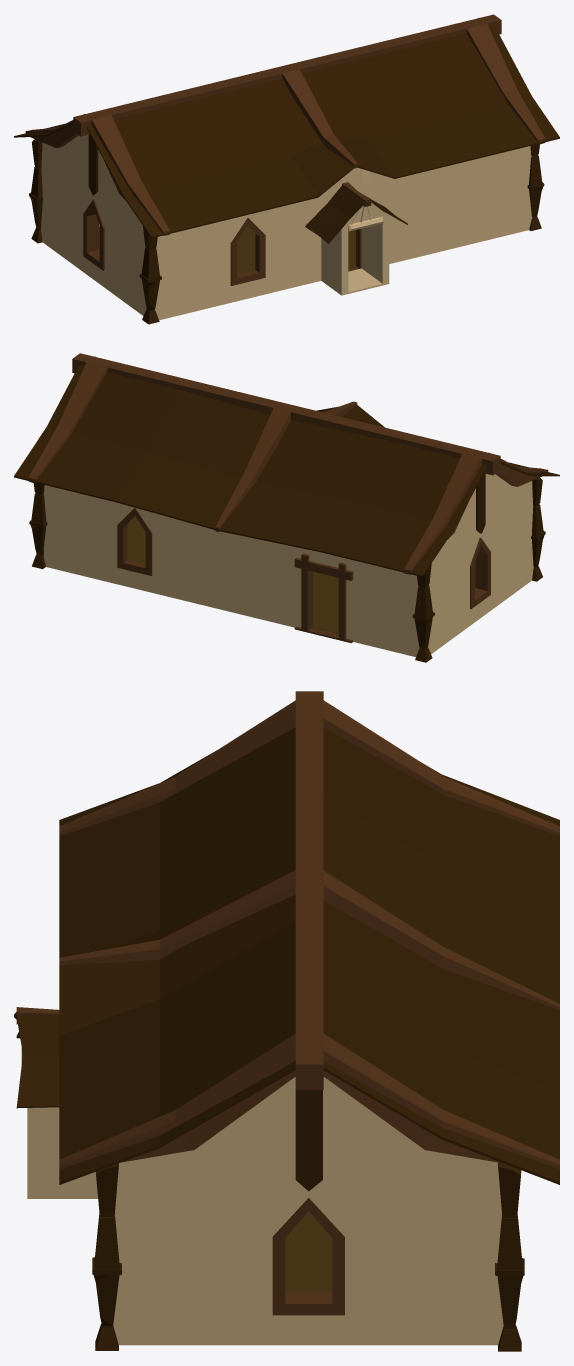
Rendered from House.fbx.
3 renders of one model, top to bottom at view 1: azimuth 30°, elevation 25°; view 2: azimuth 150°, elevation 25°; view 3: azimuth 270°, elevation 25°, orthographic. The views are drawn at different scales.
Visible parts, largest first — view 1: RoofPlt, FrontWall, SideWallL, RoofJoins, FrontDoorEntry, DoorRoof, PL, FrontWindowFrame, LeftSWindowFrame, Floor, PBL, PR; view 2: RoofPlt, BackWall, SideWallL, RoofJoins, BackDoorFrame, Floor, PBL, BackWindowFrame, LeftSWindowFrame, PBR, PL; view 3: RoofPlt, SideWallR, RoofJoins, DoorRoof, RightSWindowFrame, PBR, FrontDoorEntry, PR, Floor.
Part boxes in pixels (x1,y1,x2,y2): RoofPlt: (14, 14, 559, 238); FrontWall: (155, 146, 532, 320); SideWallL: (41, 135, 146, 315); RoofJoins: (25, 18, 545, 235); FrontDoorEntry: (321, 202, 389, 295); DoorRoof: (305, 182, 407, 243); PL: (139, 226, 161, 324); FrontWindowFrame: (230, 218, 265, 285); LeftSWindowFrame: (83, 199, 104, 270); Floor: (99, 226, 357, 274); PBL: (29, 139, 43, 243); PR: (527, 144, 544, 230); RoofPlt: (14, 353, 559, 576); BackWall: (44, 485, 419, 656); SideWallL: (428, 474, 533, 654); RoofJoins: (28, 356, 548, 574); BackDoorFrame: (294, 553, 353, 643); Floor: (127, 516, 475, 633); PBL: (412, 563, 434, 662); BackWindowFrame: (117, 508, 152, 575); LeftSWindowFrame: (470, 537, 490, 608); PBR: (29, 483, 47, 569); PL: (531, 477, 545, 581); RoofPlt: (59, 691, 559, 1191); SideWallR: (113, 1077, 503, 1345); RoofJoins: (59, 700, 559, 1169); DoorRoof: (14, 1007, 59, 1108); RightSWindowFrame: (272, 1198, 344, 1315); PBR: (495, 1161, 524, 1351); FrontDoorEntry: (21, 1047, 97, 1198); PR: (92, 1163, 121, 1350); Floor: (285, 1211, 332, 1292).
Size of the model in its own units: 2204 by 826 by 1362.
